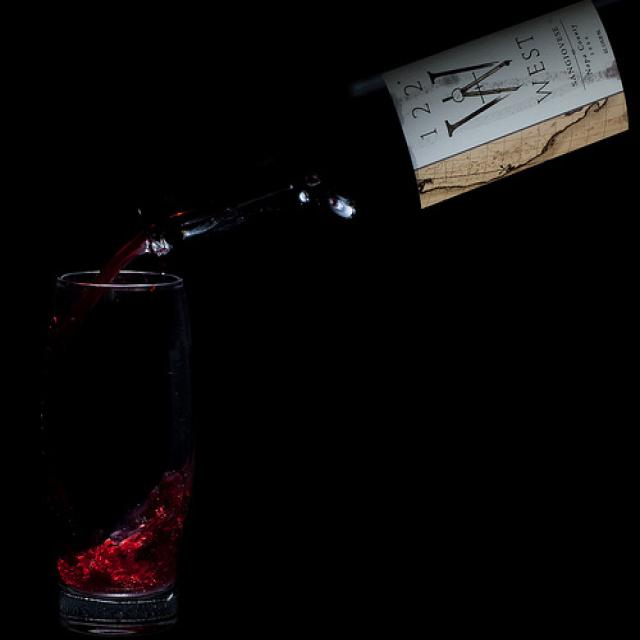Bottle: (37, 43, 640, 255)
Cup: (56, 241, 246, 640)
